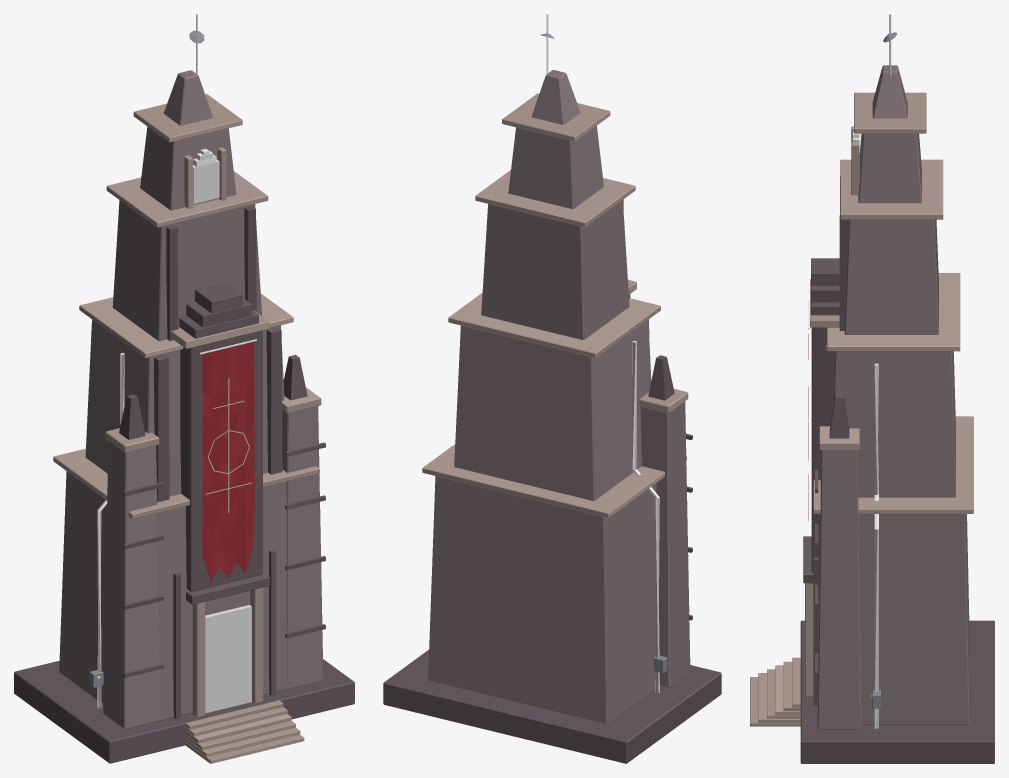
Rendered from Temple_Gate.fbx.
The picture shows the model from 3 angles, left to right: view 1: azimuth 30°, elevation 25°; view 2: azimuth 150°, elevation 25°; view 3: azimuth 270°, elevation 25°; orthographic projection.
Visible parts, largest first — view 1: Temple_Gate; view 2: Temple_Gate; view 3: Temple_Gate.
Part boxes in pixels (x1=…): Temple_Gate: x1=14, y1=14, x2=354, y2=763; Temple_Gate: x1=383, y1=14, x2=721, y2=763; Temple_Gate: x1=750, y1=14, x2=994, y2=763.
Bounding box in the file's own units: 17 × 45.3 × 14.5.
